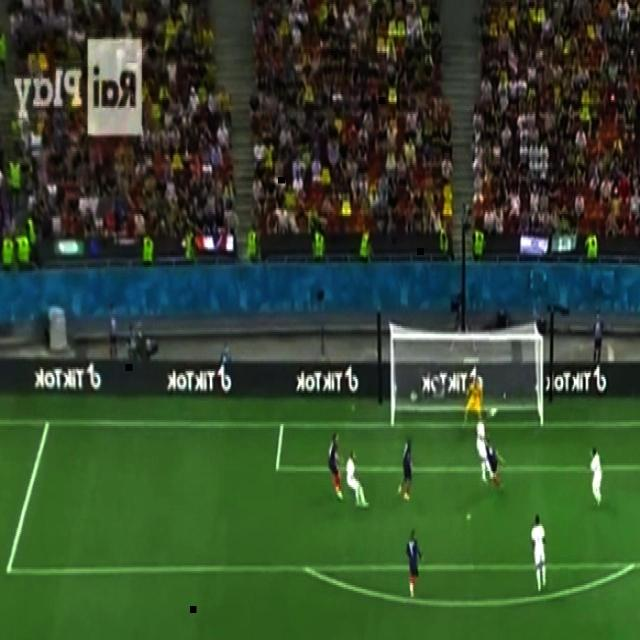ball: (488, 405, 498, 418)
player-white: (475, 409, 495, 486), (346, 448, 370, 510), (530, 514, 548, 594), (482, 434, 506, 492), (398, 433, 417, 503), (406, 528, 424, 601), (463, 376, 485, 426), (328, 430, 343, 502), (589, 446, 603, 506)
